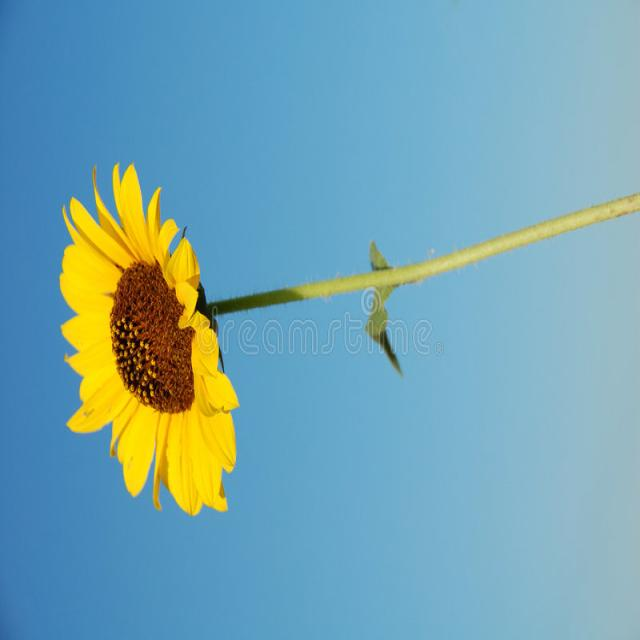sunflower: (55, 154, 257, 528)
